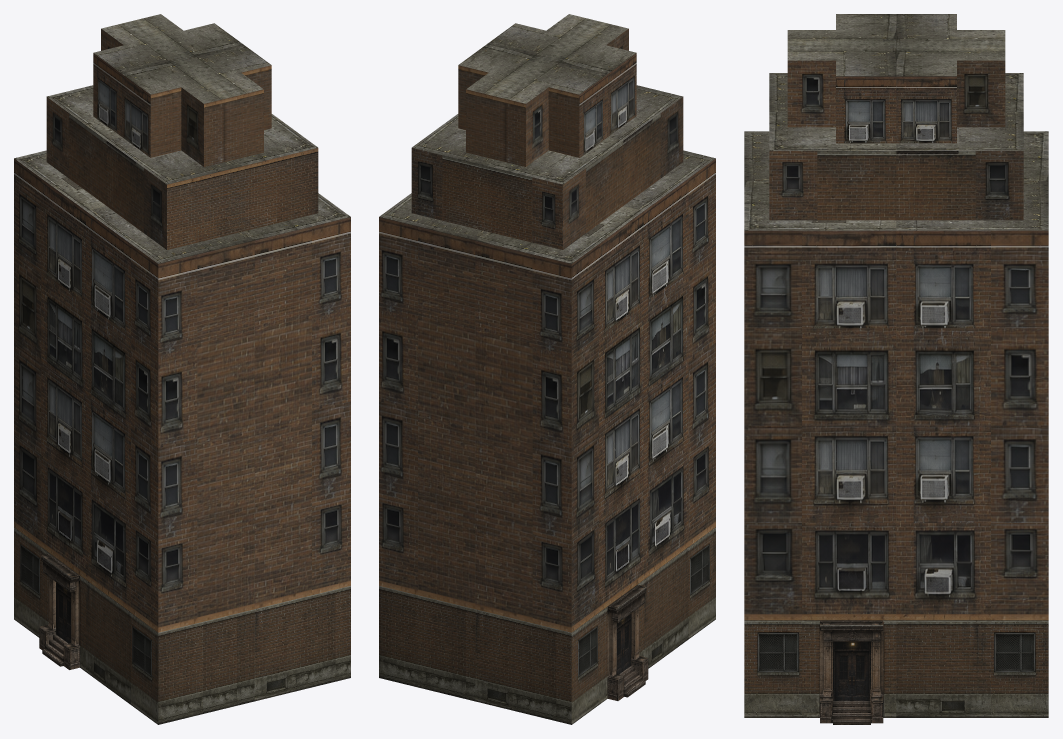
The picture shows the model from 3 angles, left to right: view 1: azimuth 30°, elevation 25°; view 2: azimuth 150°, elevation 25°; view 3: azimuth 270°, elevation 25°; orthographic projection. The views are drawn at different scales.
Parts seen in each view (by area): view 1: B015; view 2: B015; view 3: B015.
Part boxes in pixels (x1=…): B015: x1=14, y1=14, x2=350, y2=724; B015: x1=379, y1=14, x2=715, y2=724; B015: x1=744, y1=14, x2=1048, y2=724.
Size of the model in its own units: 2.73 by 6.97 by 3.09.
1 material, 1 textured.
